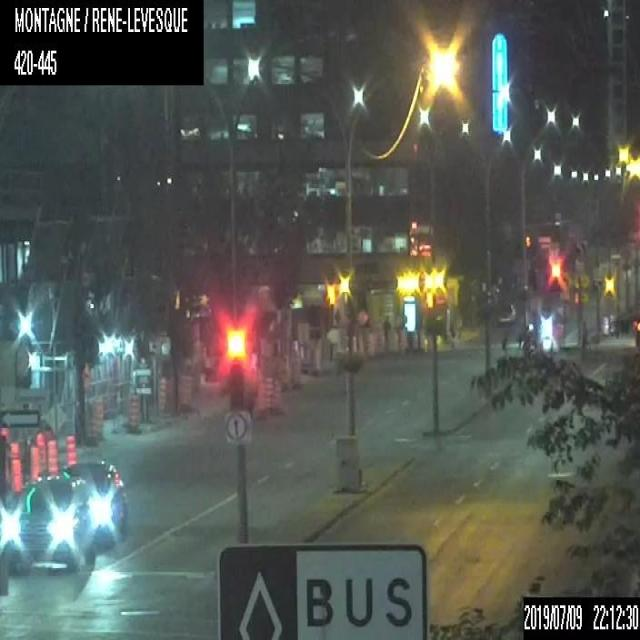construction: (8, 442, 22, 495), (84, 400, 101, 439), (127, 389, 142, 432), (34, 431, 46, 468), (179, 368, 189, 409), (46, 439, 57, 476), (64, 431, 76, 464), (28, 447, 38, 484), (158, 379, 166, 413), (264, 376, 272, 410), (290, 349, 298, 383), (257, 382, 265, 416)
vehicle: (5, 476, 94, 578), (54, 459, 124, 548)
